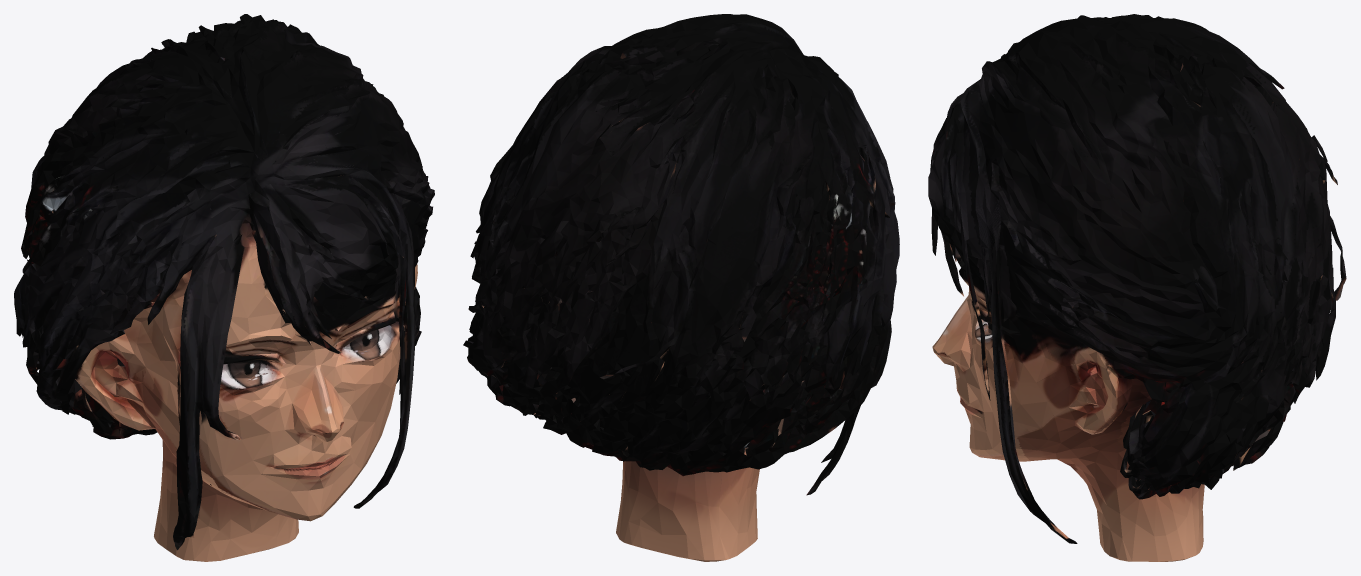
Rendered from side_fishwife_repaired_atlas.glb.
The picture shows the model from 3 angles, left to right: view 1: azimuth 30°, elevation 25°; view 2: azimuth 150°, elevation 25°; view 3: azimuth 270°, elevation 25°; orthographic projection. The views are drawn at different scales.
Parts seen in each view (by area): view 1: temp_mesh.ply; view 2: temp_mesh.ply; view 3: temp_mesh.ply.
Part boxes in pixels (x1,y1,x2,y2): temp_mesh.ply: (14,14,434,561); temp_mesh.ply: (463,14,899,561); temp_mesh.ply: (928,14,1346,561).
Size of the model in its own units: 1.61 by 1.97 by 1.47.
Materials: 1 (1 with a texture image).
